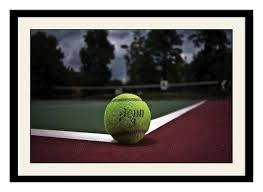tennis_ball: (104, 92, 151, 146)
